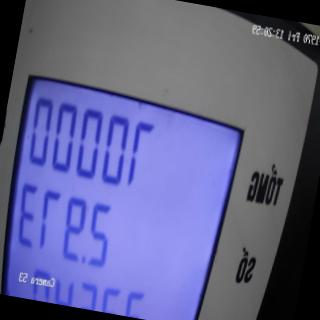screen: (0, 65, 253, 320)
